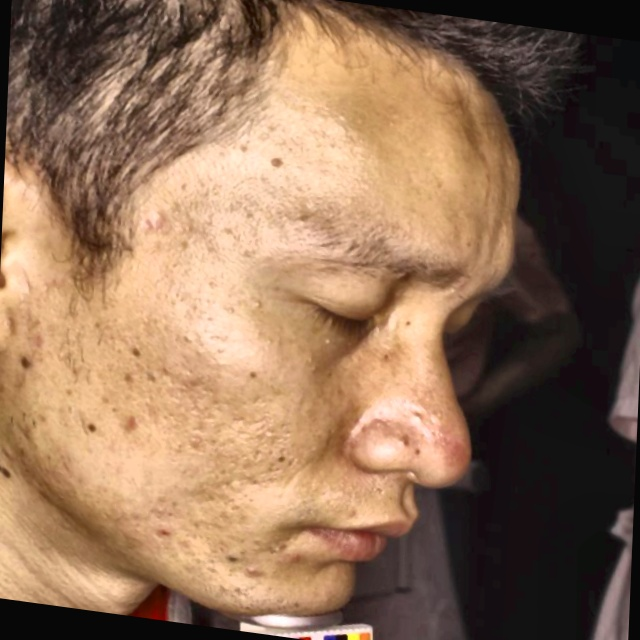comedone: (241, 555, 286, 592), (109, 408, 151, 446), (156, 513, 195, 551)
